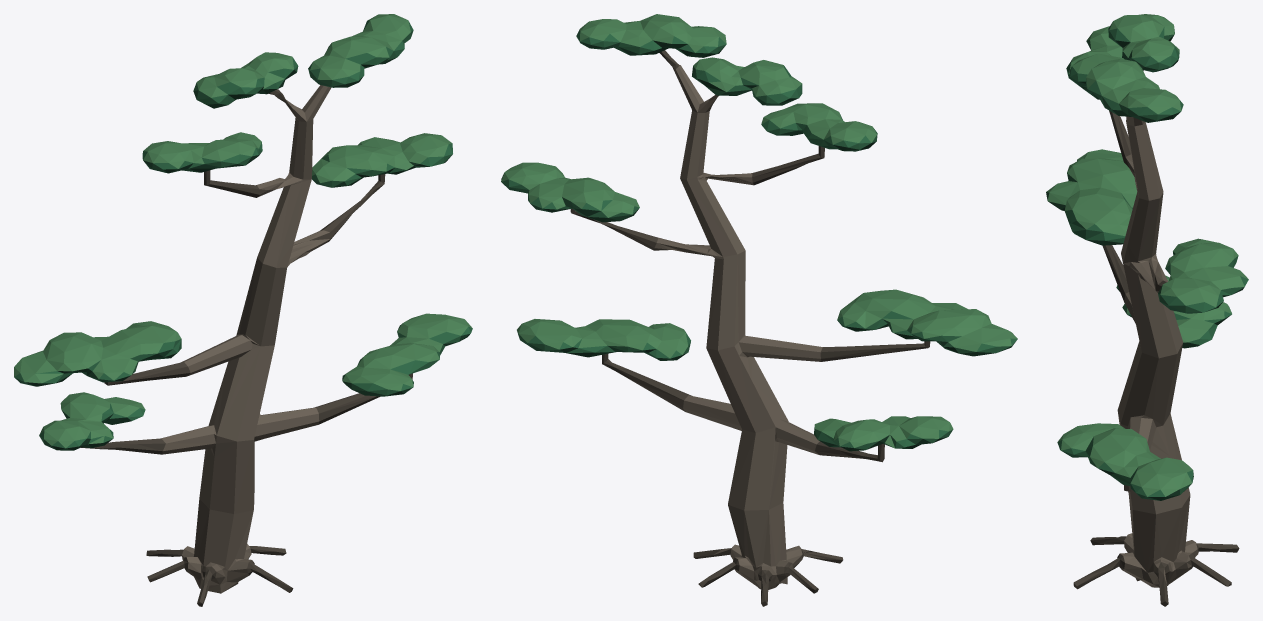
Rendered from ancient-pine-1256-lod1.glb.
3 renders of one model, left to right at view 1: azimuth 30°, elevation 25°; view 2: azimuth 150°, elevation 25°; view 3: azimuth 270°, elevation 25°, orthographic. The views are drawn at different scales.
Parts seen in each view (by area): view 1: n12.005, n8.005, n11.005, n9.005, n10.005; view 2: n12.005, n8.005, n11.005, n9.005, n10.005; view 3: n12.005, n8.005, n11.005, n9.005, n10.005.
Part boxes in pixels (x1=…): n12.005: x1=14, y1=14, x2=471, y2=448; n8.005: x1=161, y1=85, x2=331, y2=593; n11.005: x1=14, y1=20, x2=472, y2=448; n9.005: x1=81, y1=89, x2=412, y2=606; n10.005: x1=14, y1=57, x2=470, y2=450; n12.005: x1=501, y1=14, x2=1017, y2=448; n8.005: x1=654, y1=65, x2=825, y2=589; n11.005: x1=501, y1=29, x2=1017, y2=449; n9.005: x1=570, y1=50, x2=930, y2=606; n10.005: x1=502, y1=38, x2=1017, y2=451; n12.005: x1=1046, y1=14, x2=1247, y2=496; n8.005: x1=1117, y1=116, x2=1198, y2=587; n11.005: x1=1046, y1=22, x2=1248, y2=496; n9.005: x1=1073, y1=70, x2=1239, y2=606; n10.005: x1=1058, y1=35, x2=1244, y2=500.
Bounding box in the file's own units: 5.09 × 5.43 × 1.71.
